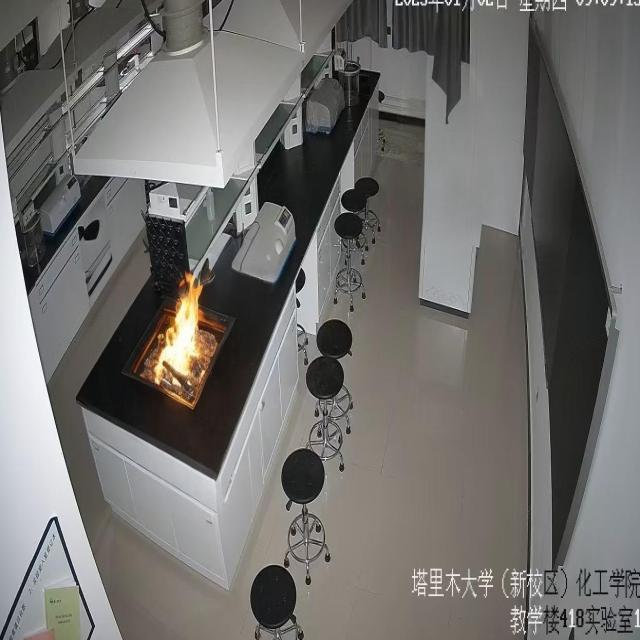smoke: (152, 262, 206, 388)
